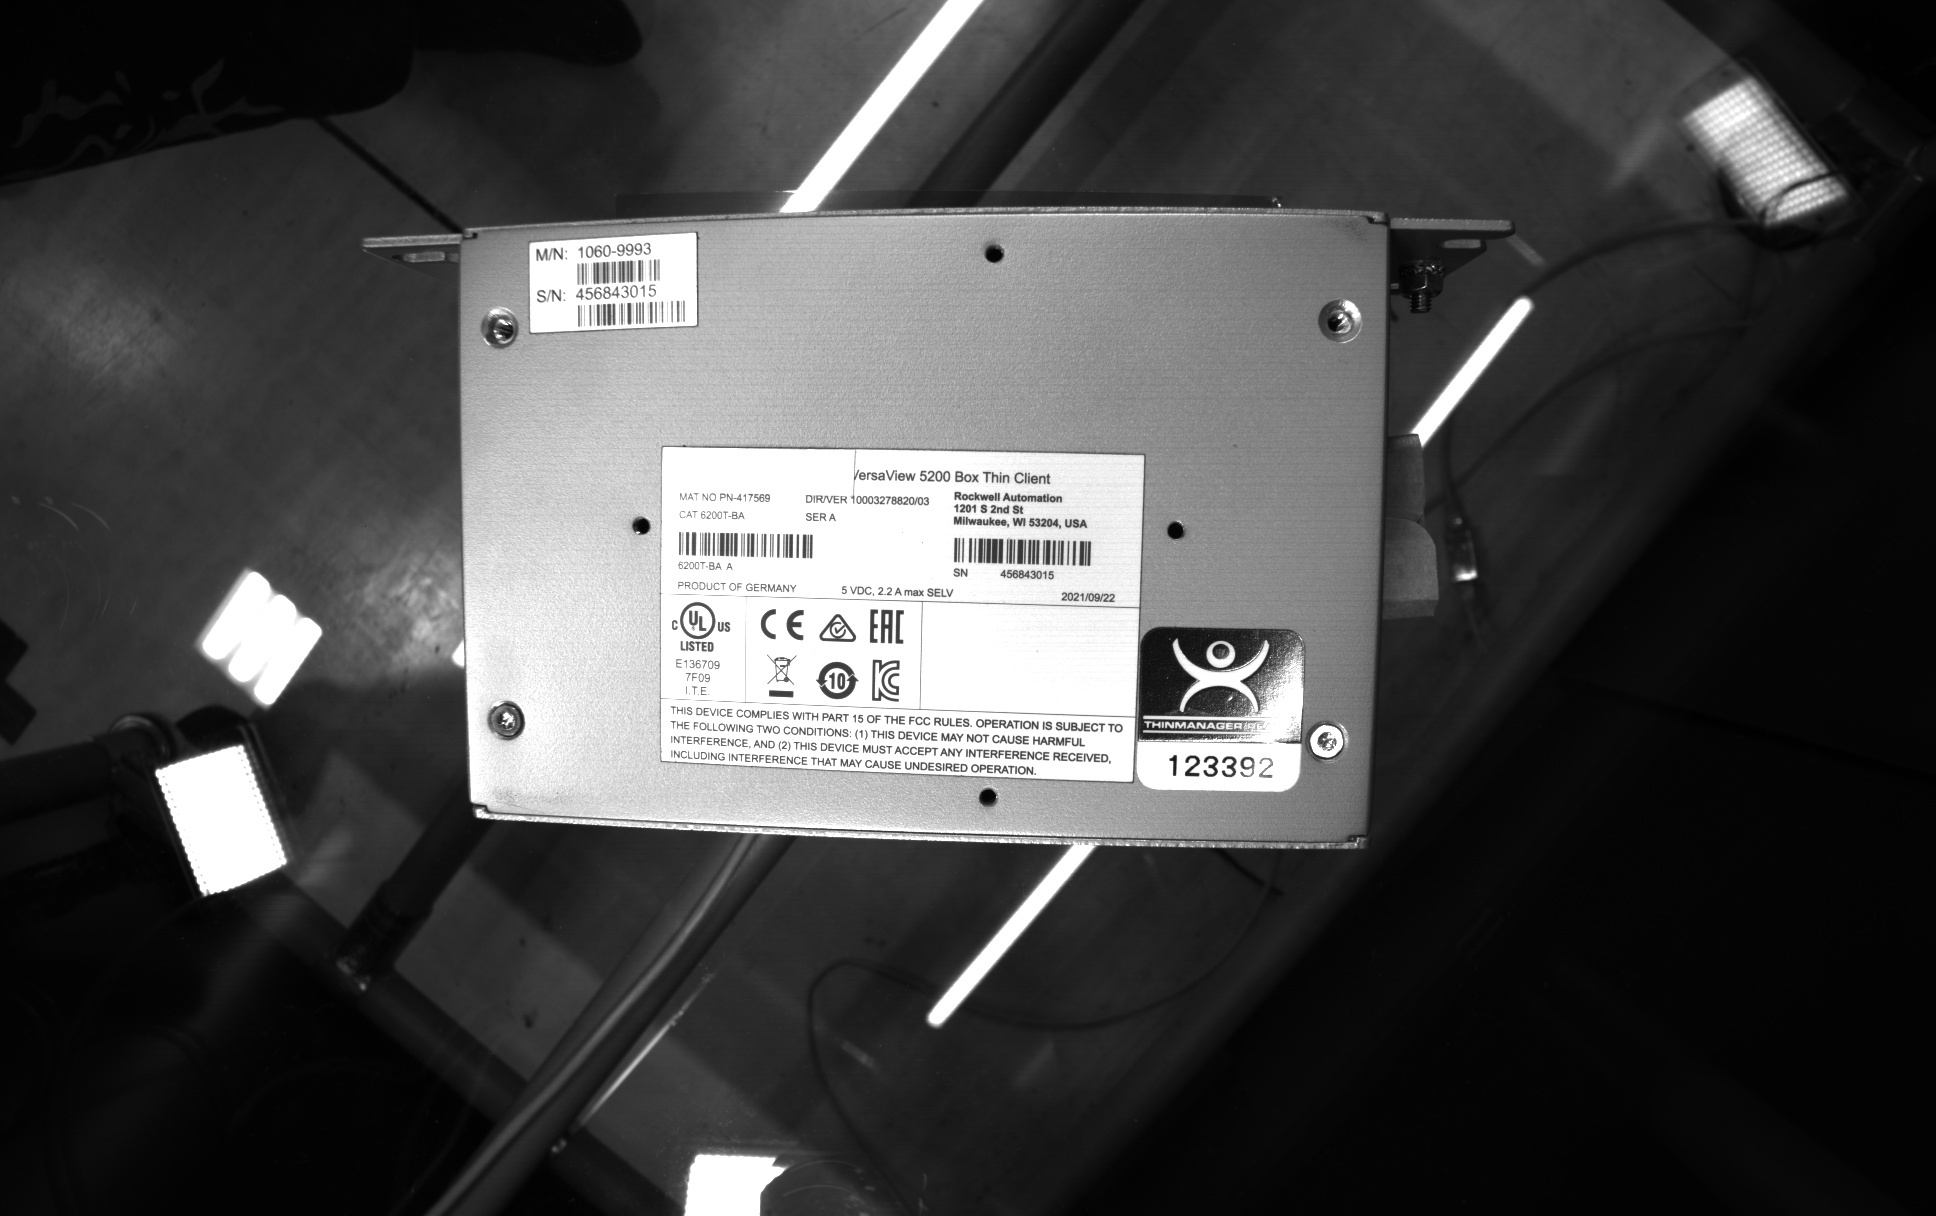Barcode: (941, 528, 1097, 573), (670, 528, 820, 565), (570, 294, 692, 333), (570, 252, 665, 287)
CamTop: (438, 191, 1408, 873)
Label_Seriennummer: (649, 433, 1156, 794)
Loch: (1313, 296, 1369, 350), (476, 301, 525, 353)
Loch_Montage: (619, 497, 658, 546), (965, 779, 1009, 818), (974, 230, 1014, 270), (1156, 504, 1195, 546)
Schraube: (480, 693, 532, 749), (1307, 712, 1357, 766)
